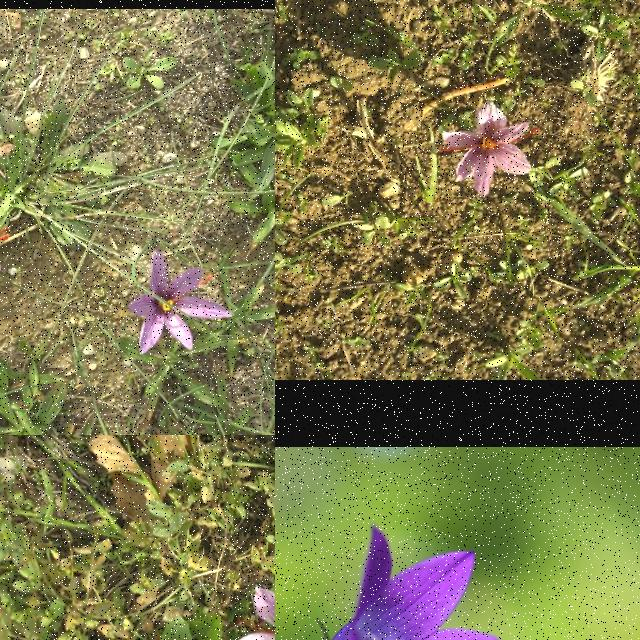flower: (128, 251, 234, 355), (440, 100, 540, 198), (228, 585, 275, 640)
